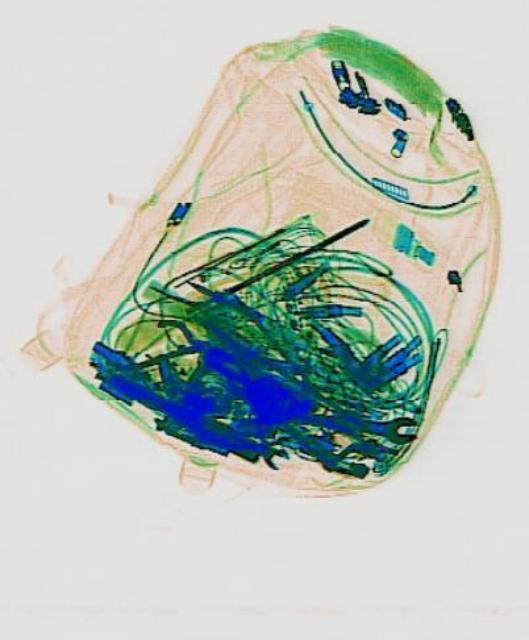Pliers: (129, 314, 211, 372)
Wrench: (169, 401, 288, 474), (309, 404, 415, 442)
